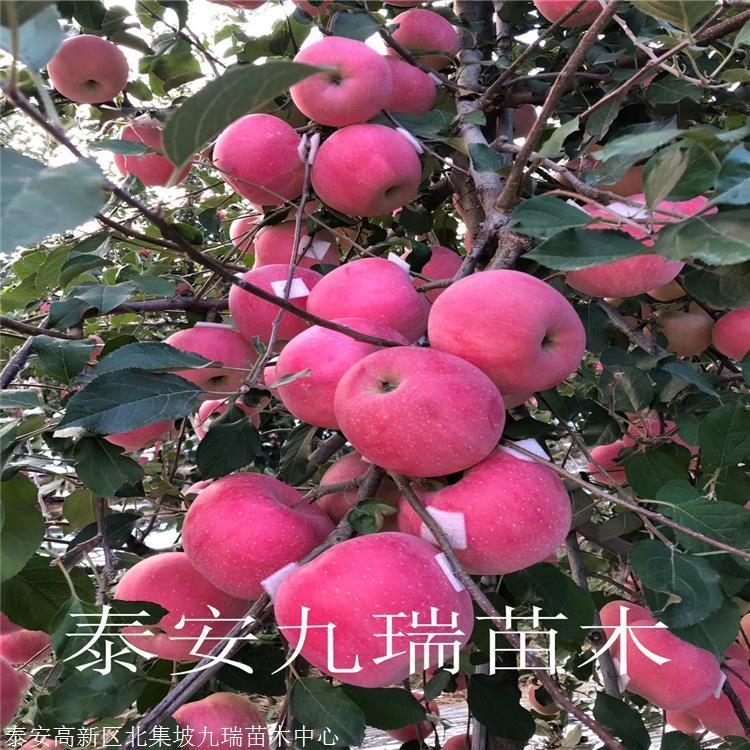apple: (276, 531, 473, 688), (333, 343, 507, 477), (396, 453, 572, 575), (426, 269, 588, 393), (180, 473, 335, 601), (110, 552, 249, 659), (273, 319, 411, 426), (309, 120, 422, 218), (305, 256, 429, 345), (210, 111, 305, 208), (289, 36, 392, 125), (225, 265, 322, 349), (160, 327, 258, 401), (44, 35, 128, 106), (110, 121, 192, 185), (387, 8, 457, 68), (653, 305, 714, 356), (710, 308, 749, 360)
